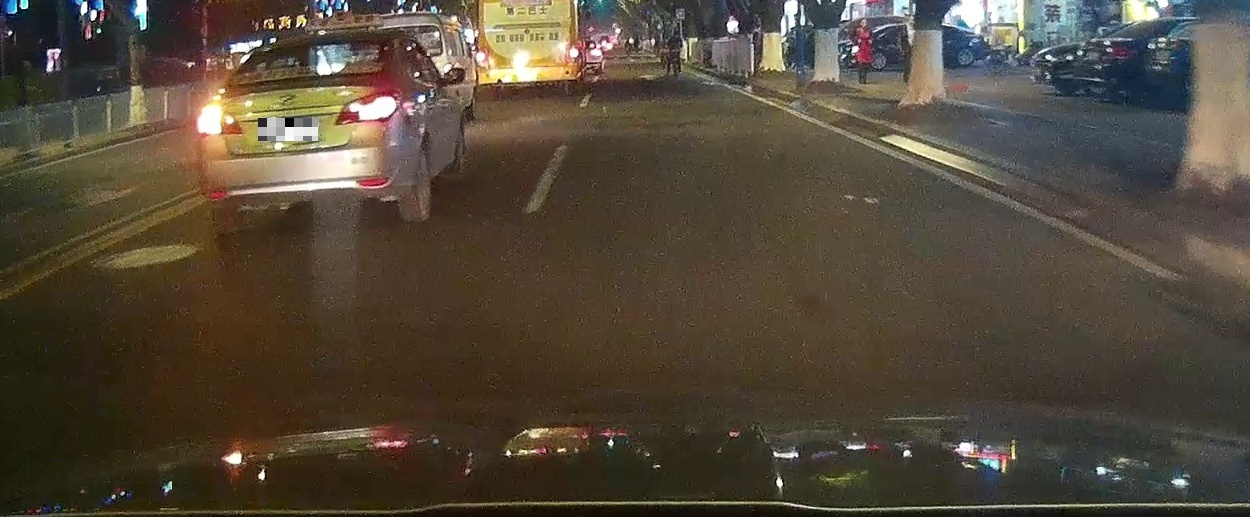L_light: (196, 105, 243, 135)
R_light: (333, 91, 397, 126)
T_light: (291, 44, 317, 51)
night-left: (195, 31, 404, 239)
plate_1: (258, 118, 318, 141)
